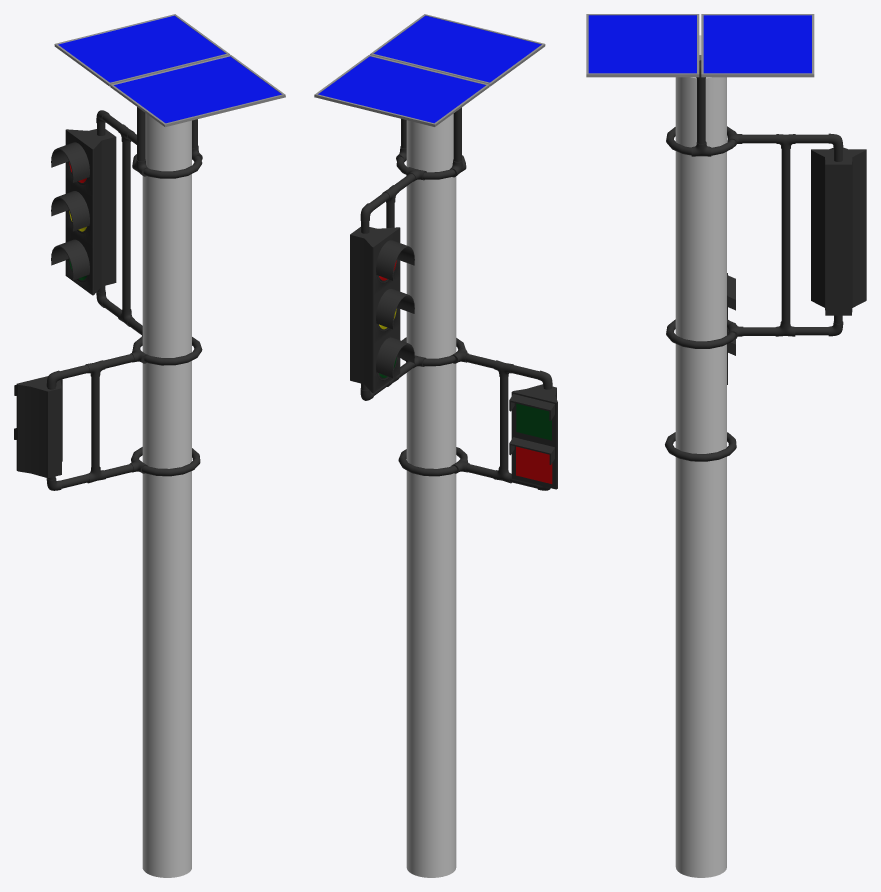
File: verticle traffic light.fbx
3 renders of one model, left to right at view 1: azimuth 30°, elevation 25°; view 2: azimuth 150°, elevation 25°; view 3: azimuth 270°, elevation 25°, orthographic. The views are drawn at different scales.
Parts seen in each view (by area): view 1: Cylinder.001; view 2: Cylinder.001; view 3: Cylinder.001.
Part boxes in pixels (<box>): Cylinder.001: <box>14,14,285,877</box>; Cylinder.001: <box>314,14,557,877</box>; Cylinder.001: <box>586,14,866,877</box>.
Size of the model in its own units: 183 by 697 by 215.
